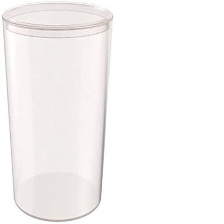plastic_box: (0, 0, 119, 224)
